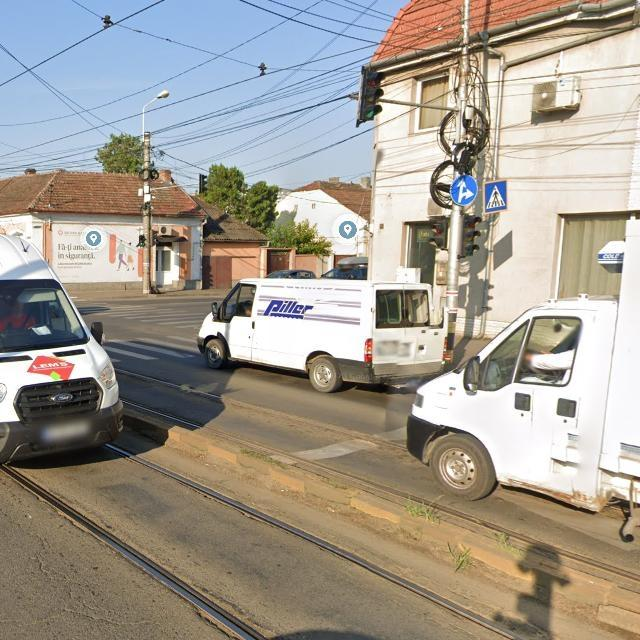info_crosswalk: (483, 179, 509, 213)
